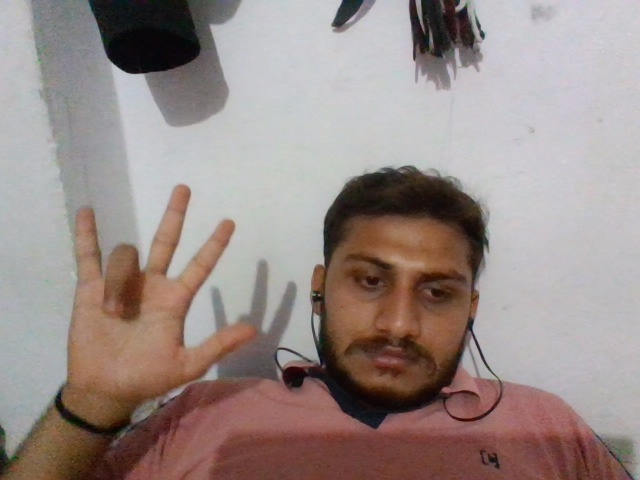ILoveYou: (57, 180, 261, 402)
